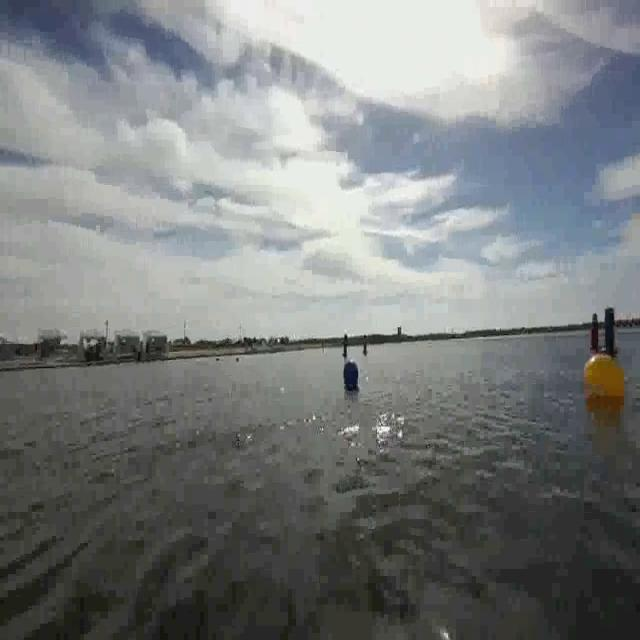blue-buoy: (344, 358, 360, 388)
green-column-buoy: (605, 306, 621, 359)
red-column-buoy: (585, 316, 599, 355)
yellow-buoy: (582, 349, 626, 399)
